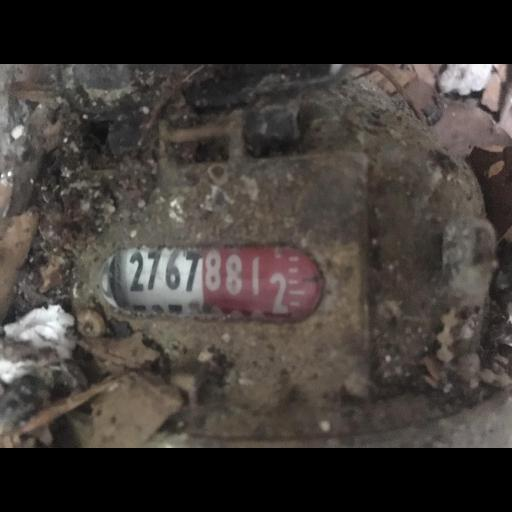1: (246, 246, 267, 316)
2: (265, 246, 293, 319), (126, 249, 146, 312)
6: (163, 248, 183, 315)
7: (181, 246, 204, 317), (144, 248, 164, 312)
8: (224, 246, 247, 317), (202, 246, 224, 316)
border_water_meter_number: (98, 236, 327, 320)
